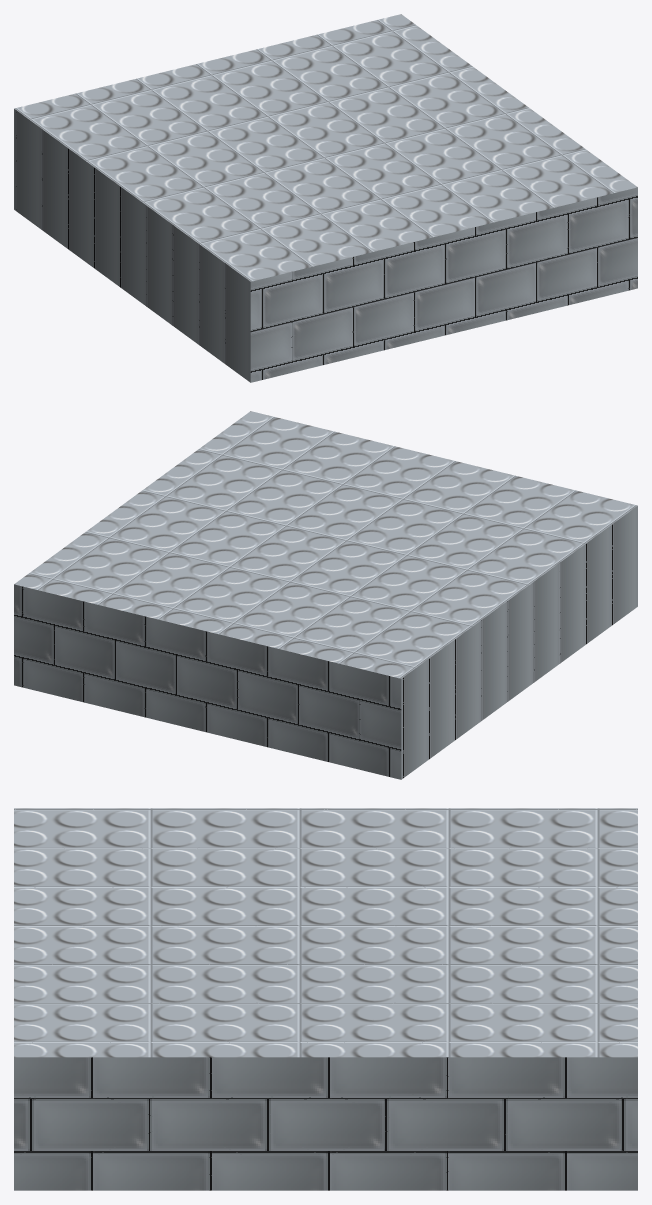
File: bouncer.obj
The picture shows the model from 3 angles, top to bottom: view 1: azimuth 30°, elevation 25°; view 2: azimuth 150°, elevation 25°; view 3: azimuth 270°, elevation 25°; orthographic projection. The views are drawn at different scales.
Parts seen in each view (by area): view 1: Plane.006_Plane.024; view 2: Plane.006_Plane.024; view 3: Plane.006_Plane.024.
Boxes of the visible parts, x1,y1,x2,y2 form: Plane.006_Plane.024: [14, 14, 637, 382]; Plane.006_Plane.024: [14, 411, 637, 779]; Plane.006_Plane.024: [14, 808, 637, 1190].
Bounding box in the file's own units: 1.6 × 0.3994 × 1.7.
2 materials, 2 textured.
